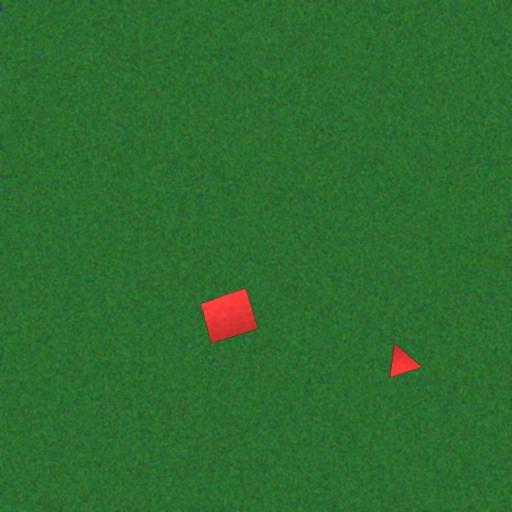RED_SQUARE: (200, 287, 258, 345)
